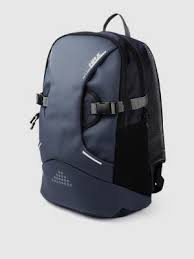backpack: (29, 12, 166, 218)
